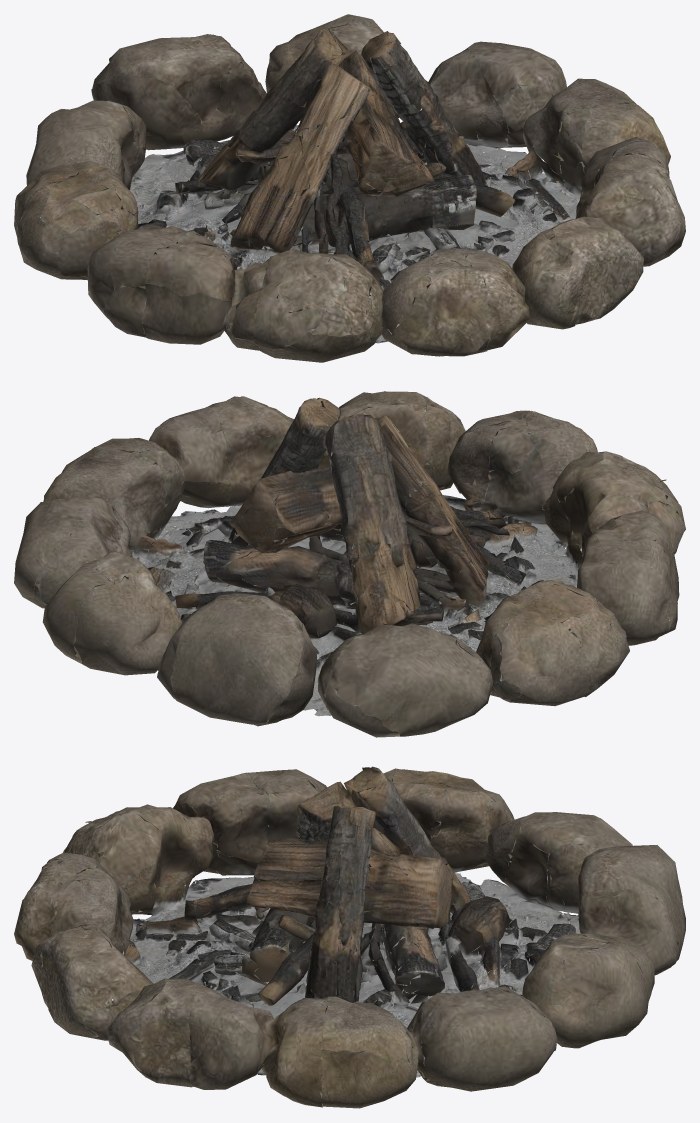
The model's file is campfire.glb.
3 views of the same model, one above another, from view 1: azimuth 30°, elevation 25°; view 2: azimuth 150°, elevation 25°; view 3: azimuth 270°, elevation 25° (orthographic).
Parts seen in each view (by area): view 1: Mesh_0; view 2: Mesh_0; view 3: Mesh_0.
Boxes of the visible parts, x1=… form: Mesh_0: x1=14, y1=14, x2=685, y2=362; Mesh_0: x1=14, y1=391, x2=685, y2=737; Mesh_0: x1=14, y1=766, x2=685, y2=1108.
Bounding box in the file's own units: 1.3 × 0.425 × 1.3.
1 material, 1 textured.
